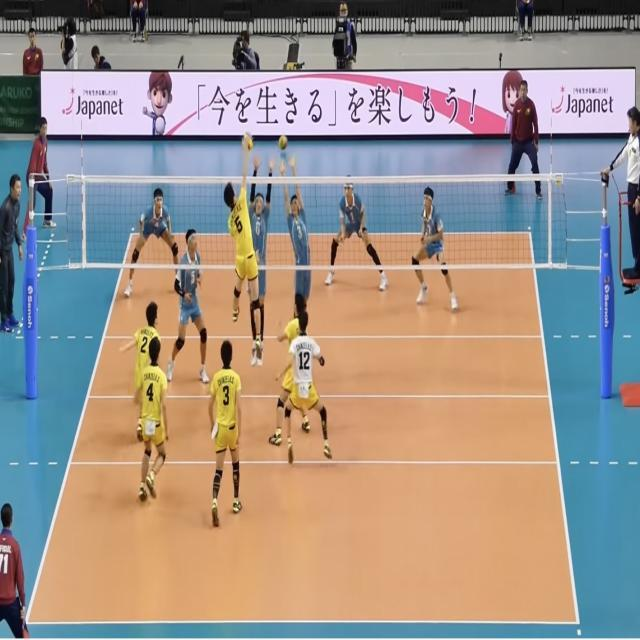spike: (221, 130, 266, 360)
